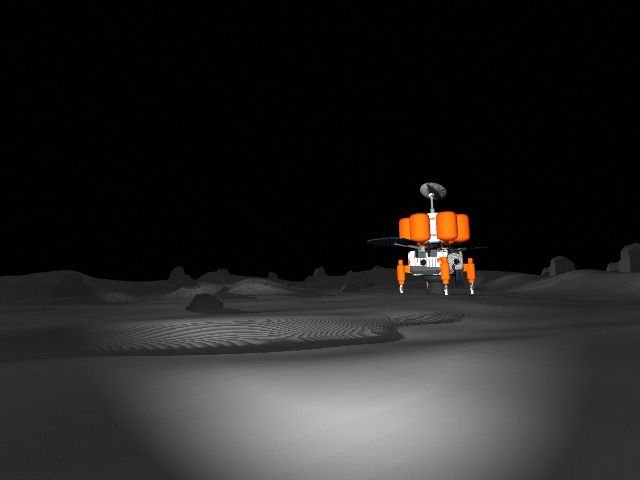homebase: (361, 180, 500, 298)
